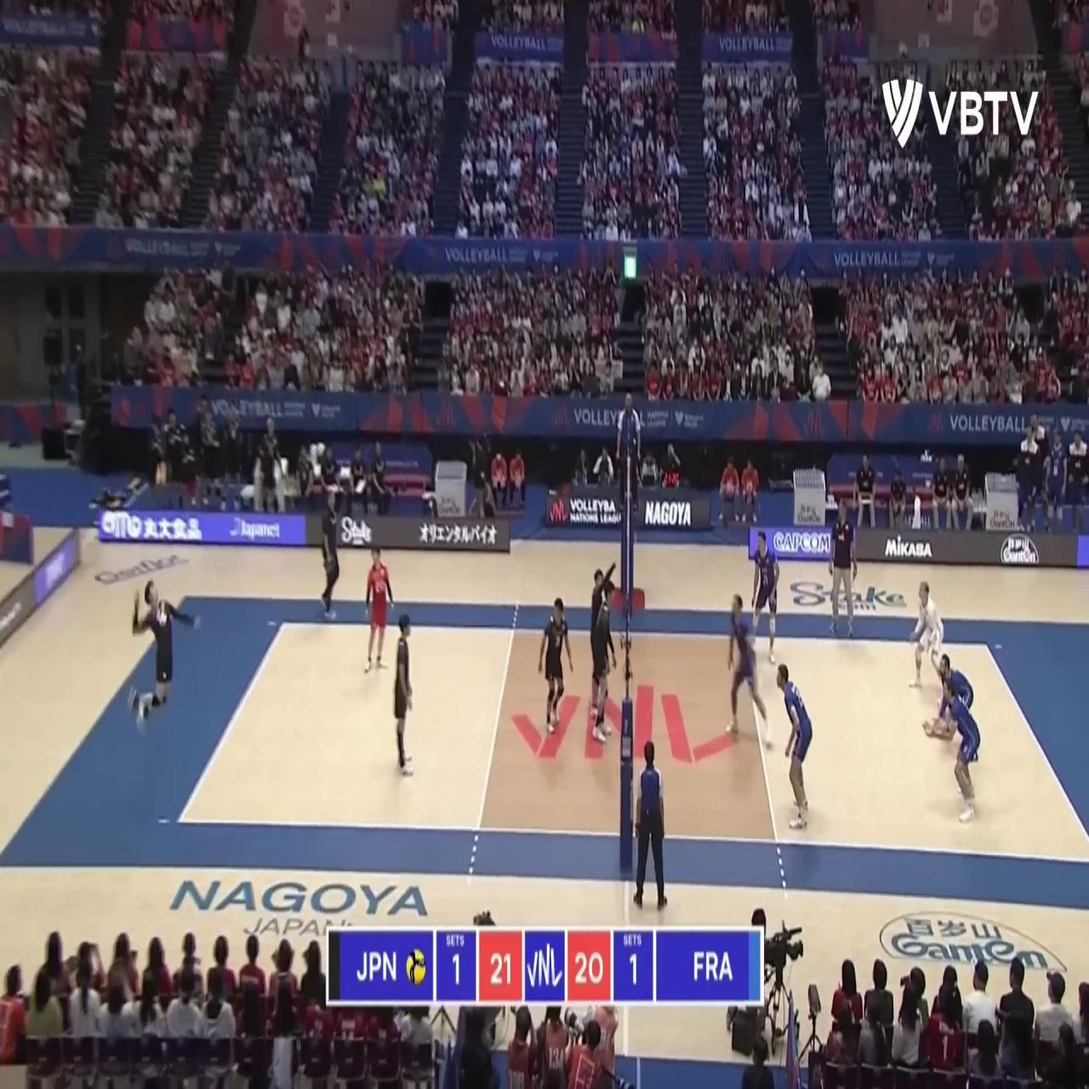ball: (155, 463, 167, 488)
